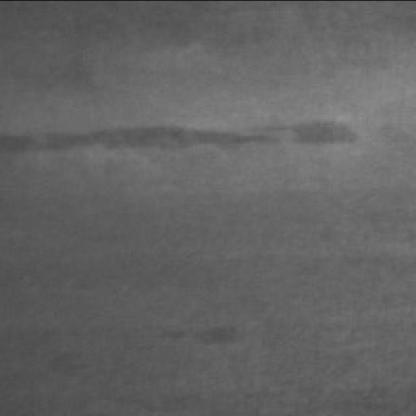inclusion: (4, 115, 302, 170), (218, 112, 368, 160), (152, 316, 254, 360)
